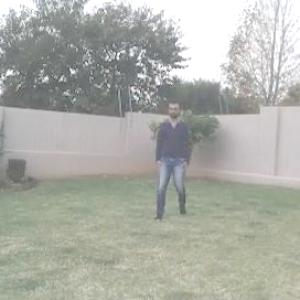follow: (153, 96, 190, 221)
